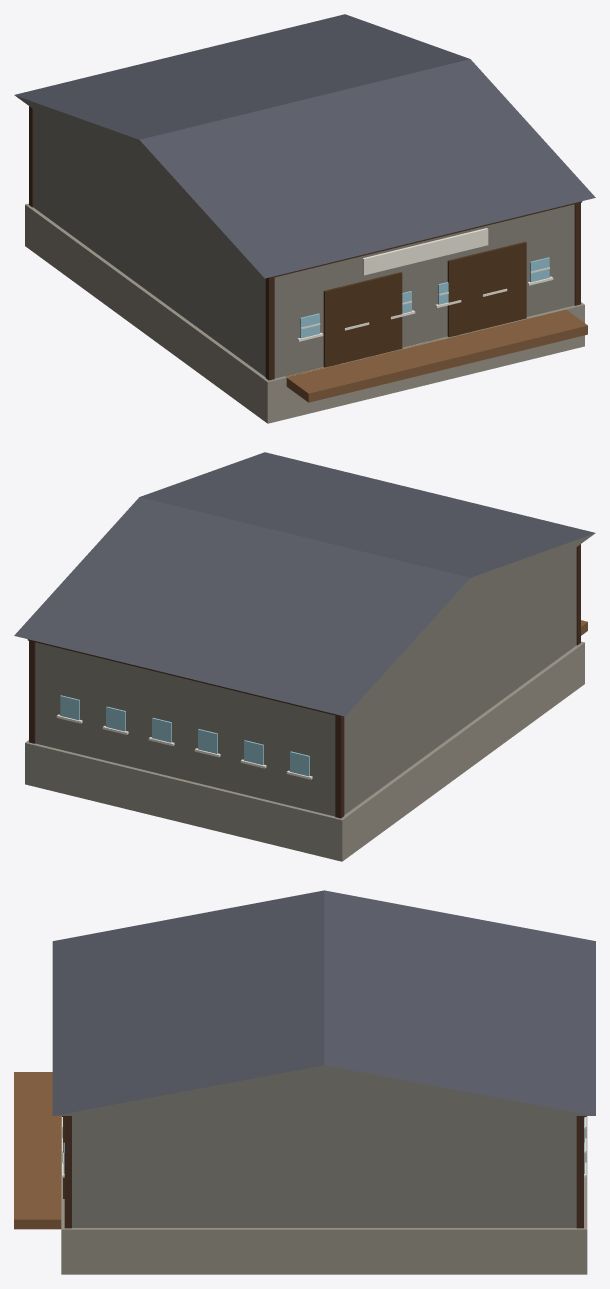
Rendered from storage_delivery.glb.
3 renders of one model, top to bottom at view 1: azimuth 30°, elevation 25°; view 2: azimuth 150°, elevation 25°; view 3: azimuth 270°, elevation 25°, orthographic. The views are drawn at different scales.
Parts seen in each view (by area): view 1: storage_delivery-col; view 2: storage_delivery-col; view 3: storage_delivery-col.
Part boxes in pixels (x1,y1,x2,y2): storage_delivery-col: (14,14,595,423); storage_delivery-col: (14,452,595,861); storage_delivery-col: (14,890,595,1274).
Size of the model in its own units: 19.2 by 10.9 by 27.
